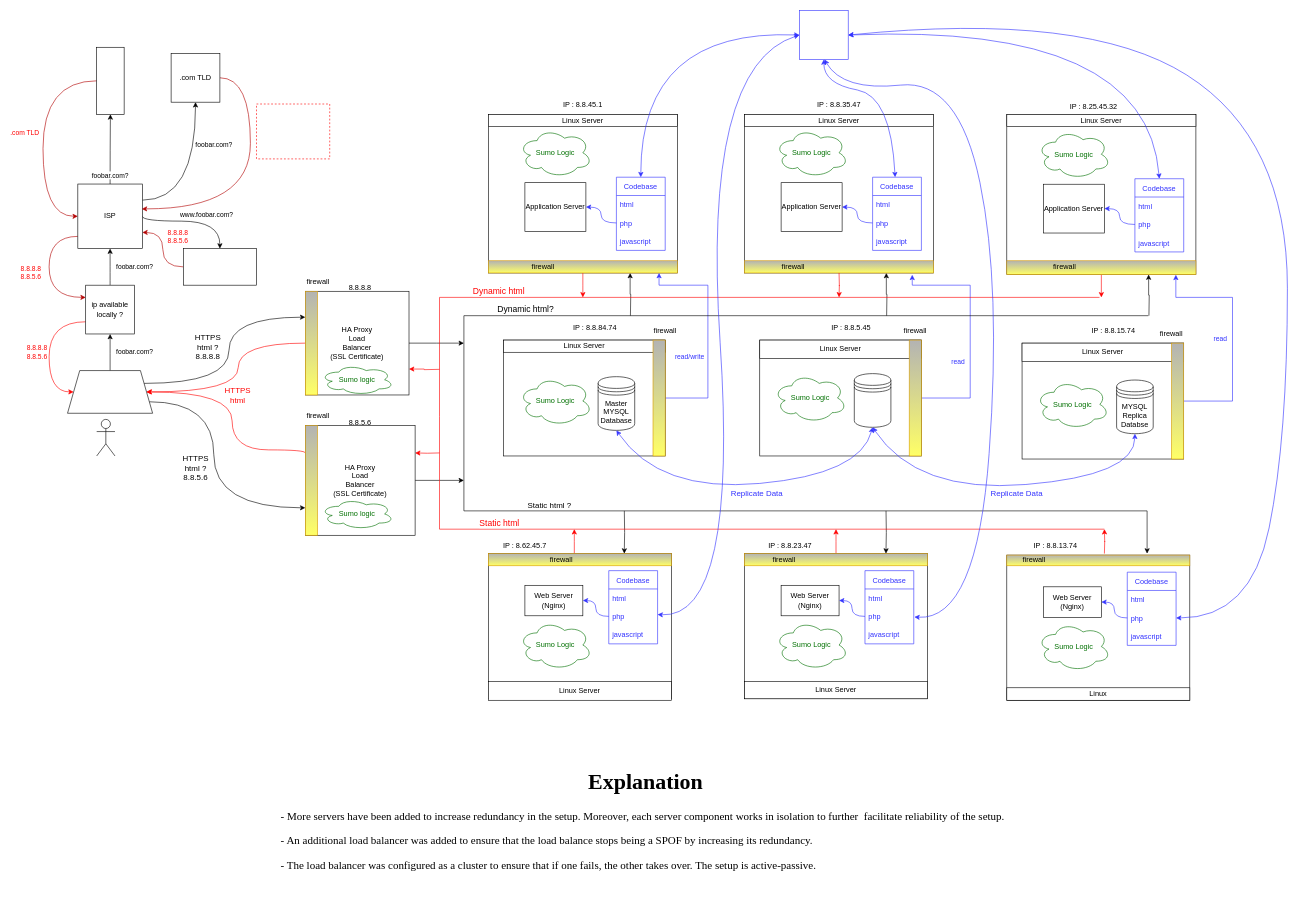
Some shapes in this 1298 by 900 pixel diagram are drawn without their labels. The centre of each missing label's shape, as x and y in pixels:
foobar.com Browser: the point at 110,391
github: the point at 823,34
MYSQL Replica Database: the point at 872,400
ns1.foobar.com ns2.foobar.com . . . ns7.foobar.com: the point at 293,131
ns2.foobar.com ns3.foobar.com: the point at 220,266
ROOT: the point at 110,80
user: the point at 105,437
